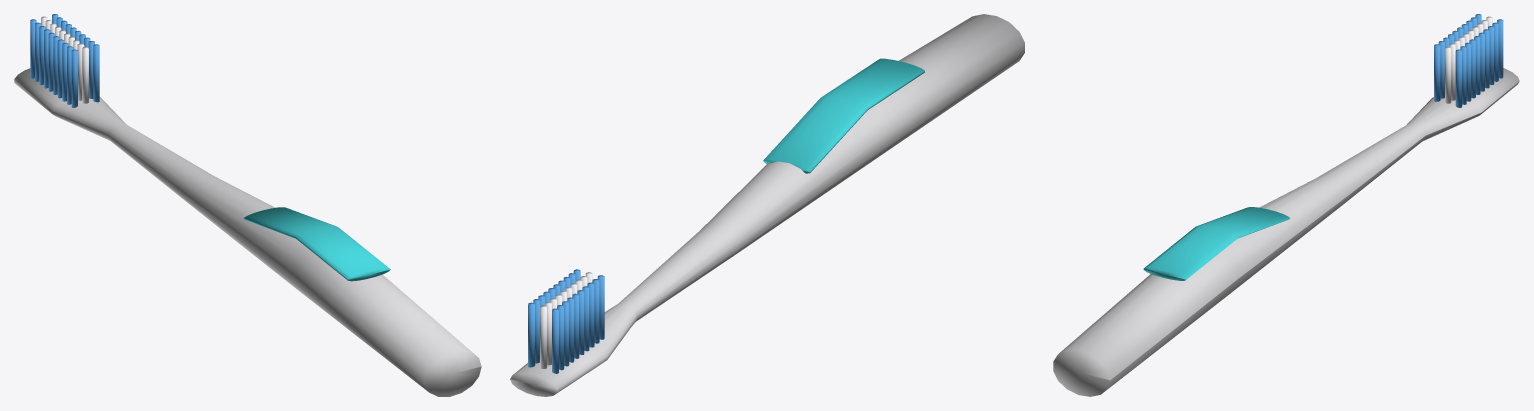
The model's file is toothbrush.glb.
The picture shows the model from 3 angles, left to right: view 1: azimuth 30°, elevation 25°; view 2: azimuth 150°, elevation 25°; view 3: azimuth 330°, elevation 25°; orthographic projection. The views are drawn at different scales.
Parts seen in each view (by area): view 1: Brush_Body, Brush_Grip_Pad, Brush_Bristle_Tuft_L_1; view 2: Brush_Body, Brush_Grip_Pad, Brush_Bristle_Tuft_R_10, Brush_Bristle_Tuft_C_10, Brush_Bristle_Tuft_L_10; view 3: Brush_Body, Brush_Grip_Pad, Brush_Bristle_Tuft_R_1.
Part boxes in pixels (left/top/right/bottom): Brush_Body: left=14, top=68, right=481, bottom=396; Brush_Grip_Pad: left=243, top=207, right=390, bottom=281; Brush_Bristle_Tuft_L_1: left=71, top=49, right=77, bottom=107; Brush_Body: left=510, top=14, right=1024, bottom=396; Brush_Grip_Pad: left=763, top=58, right=924, bottom=173; Brush_Bristle_Tuft_R_10: left=528, top=302, right=535, bottom=367; Brush_Bristle_Tuft_C_10: left=540, top=305, right=547, bottom=368; Brush_Bristle_Tuft_L_10: left=552, top=308, right=558, bottom=373; Brush_Body: left=1053, top=68, right=1519, bottom=396; Brush_Grip_Pad: left=1143, top=207, right=1290, bottom=280; Brush_Bristle_Tuft_R_1: left=1455, top=49, right=1462, bottom=107.
Size of the model in its own units: 0.0178 by 0.021 by 0.2.
